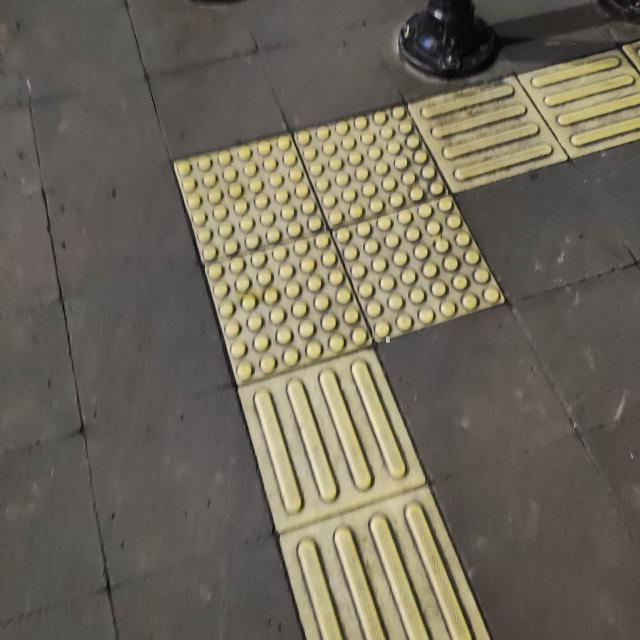kanan: (107, 74, 640, 397)
